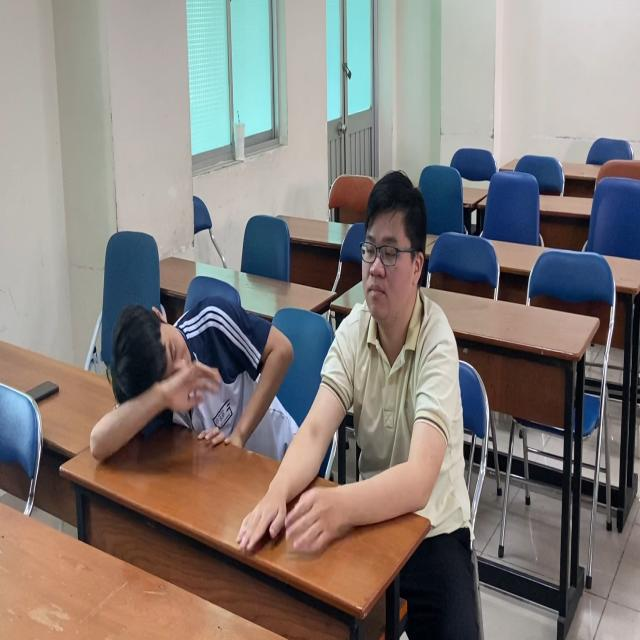sleep: (77, 277, 309, 469)
